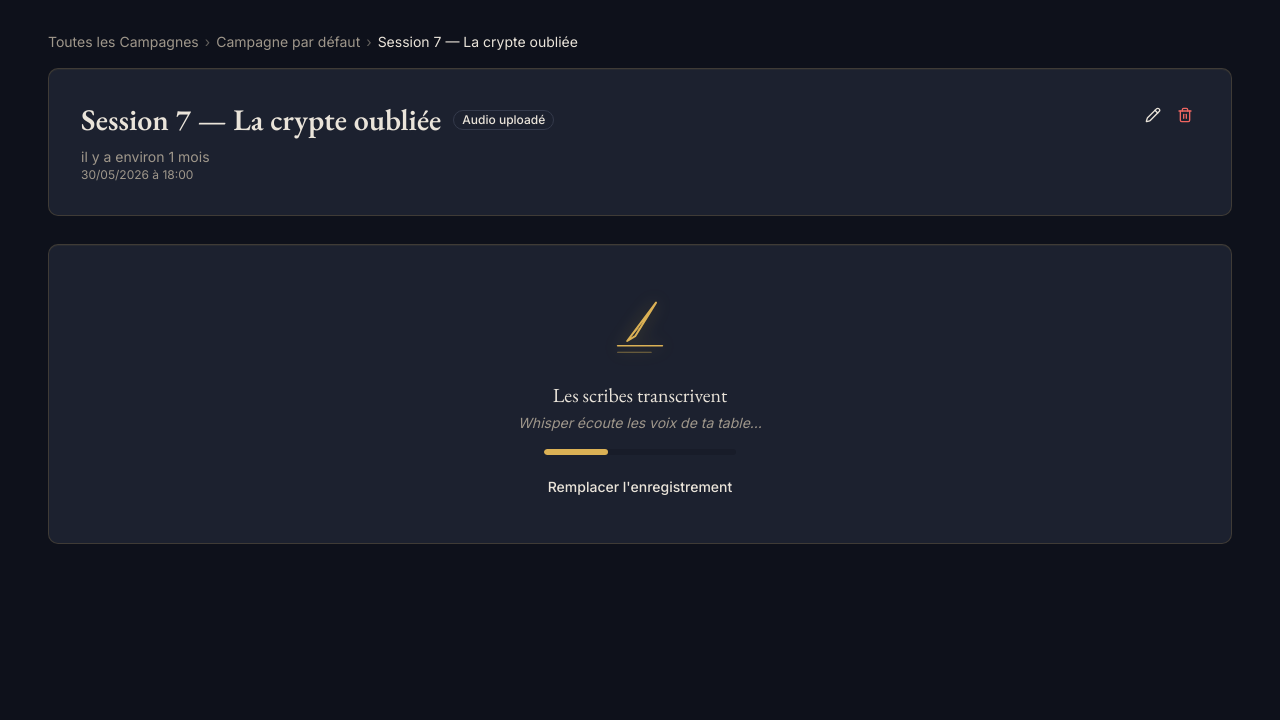
Test: /jdr/campaigns/[campId]/sessions/[sid] page › Story 3.5 — Replace audio affordance › clicking 'Remplacer' reveals the replace dropzone and hides the ritual
Click the button "Remplacer l'enregistrement" at (640, 486), box [537,470,743,502]
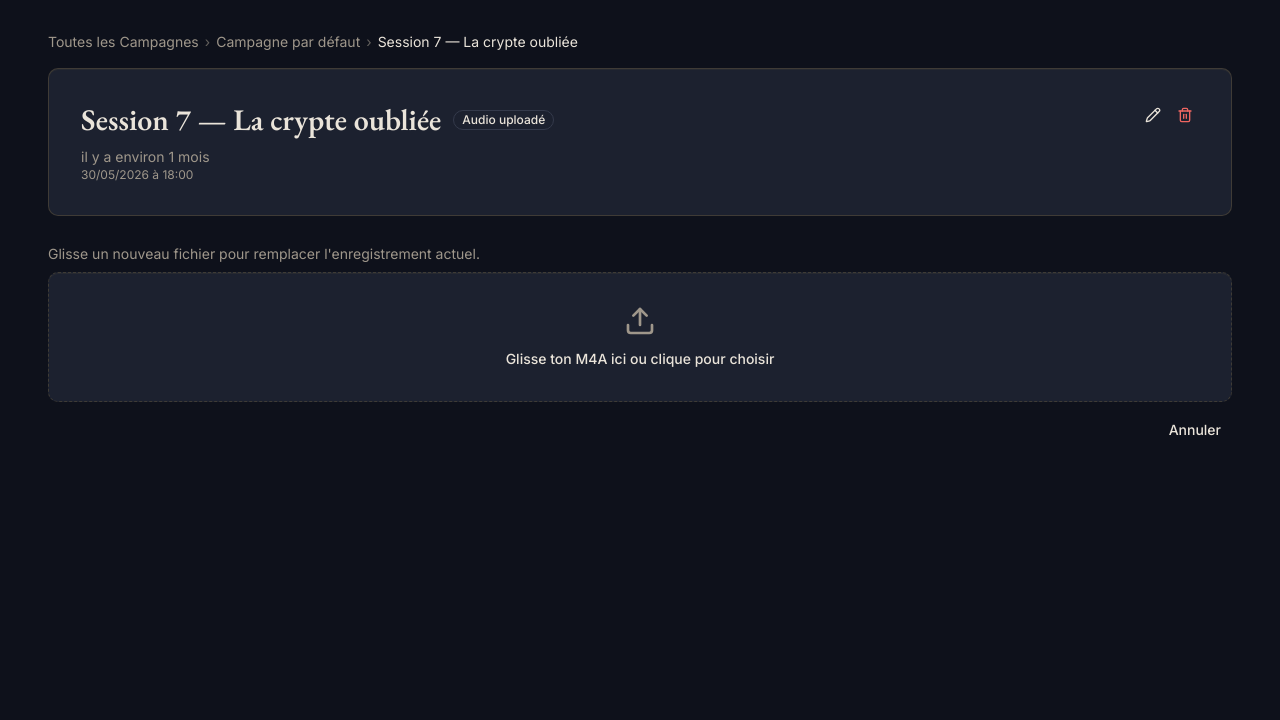
expect the button "Glisse ton M4A ici ou clique pour choisir" is shown: met, box [48,272,1232,402]
expect the heading "Les scribes transcrivent" is gone: met
